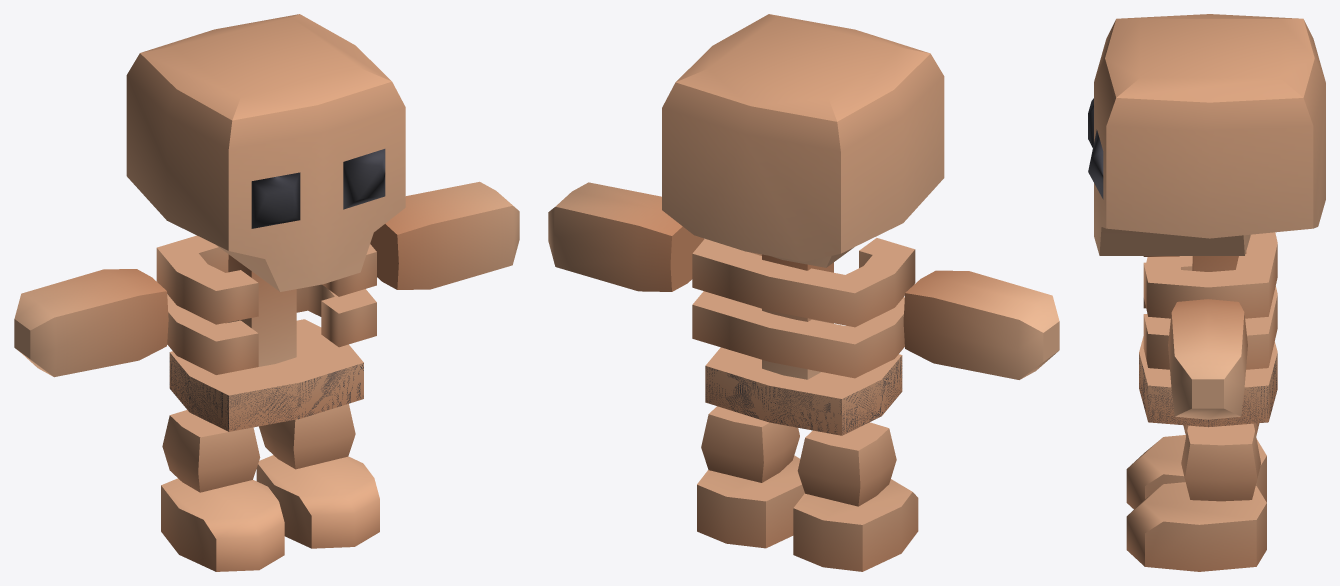
The model's file is cc0-skeleton-lod1.glb.
The picture shows the model from 3 angles, left to right: view 1: azimuth 30°, elevation 25°; view 2: azimuth 150°, elevation 25°; view 3: azimuth 270°, elevation 25°; orthographic projection.
Visible parts, largest first — view 1: part_3, part_2, part_6, part_4, part_1, part_5; view 2: part_3, part_2, part_6, part_4, part_5, part_1; view 3: part_3, part_1, part_2, part_5, part_6.
Part boxes in pixels (left/top/right/bottom): part_3: left=126, top=14, right=405, bottom=291; part_2: left=156, top=235, right=376, bottom=431; part_6: left=161, top=410, right=284, bottom=571; part_4: left=14, top=269, right=168, bottom=377; part_1: left=256, top=404, right=379, bottom=548; part_5: left=370, top=181, right=519, bottom=289; part_3: left=662, top=14, right=944, bottom=267; part_2: left=692, top=238, right=915, bottom=435; part_6: left=793, top=422, right=918, bottom=571; part_4: left=903, top=270, right=1059, bottom=379; part_5: left=548, top=182, right=704, bottom=291; part_1: left=697, top=406, right=804, bottom=548; part_3: left=1088, top=14, right=1325, bottom=255; part_1: left=1126, top=423, right=1266, bottom=571; part_2: left=1139, top=232, right=1277, bottom=427; part_5: left=1168, top=299, right=1247, bottom=419; part_6: left=1126, top=423, right=1266, bottom=509.
Bounding box in the file's own units: 0.7608 × 0.7001 × 0.3157.
Materials: 1 (1 with a texture image).
